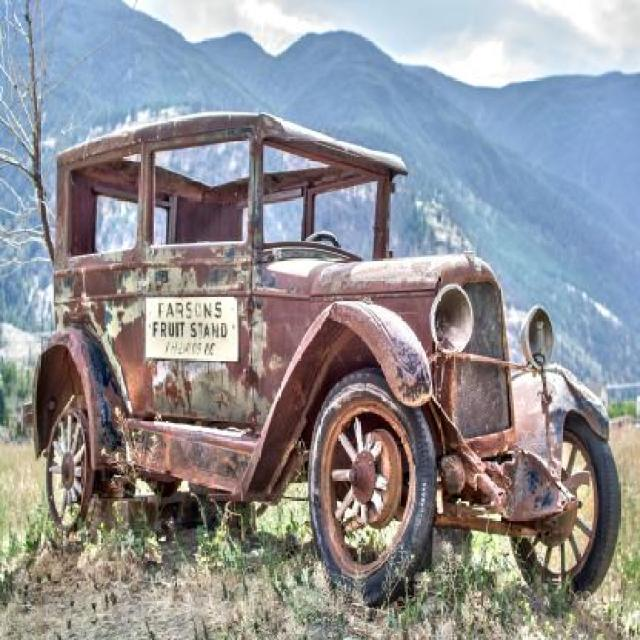corrosion: (38, 106, 625, 608)
